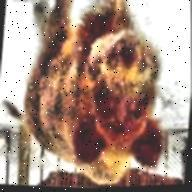boar: (15, 0, 172, 191)
